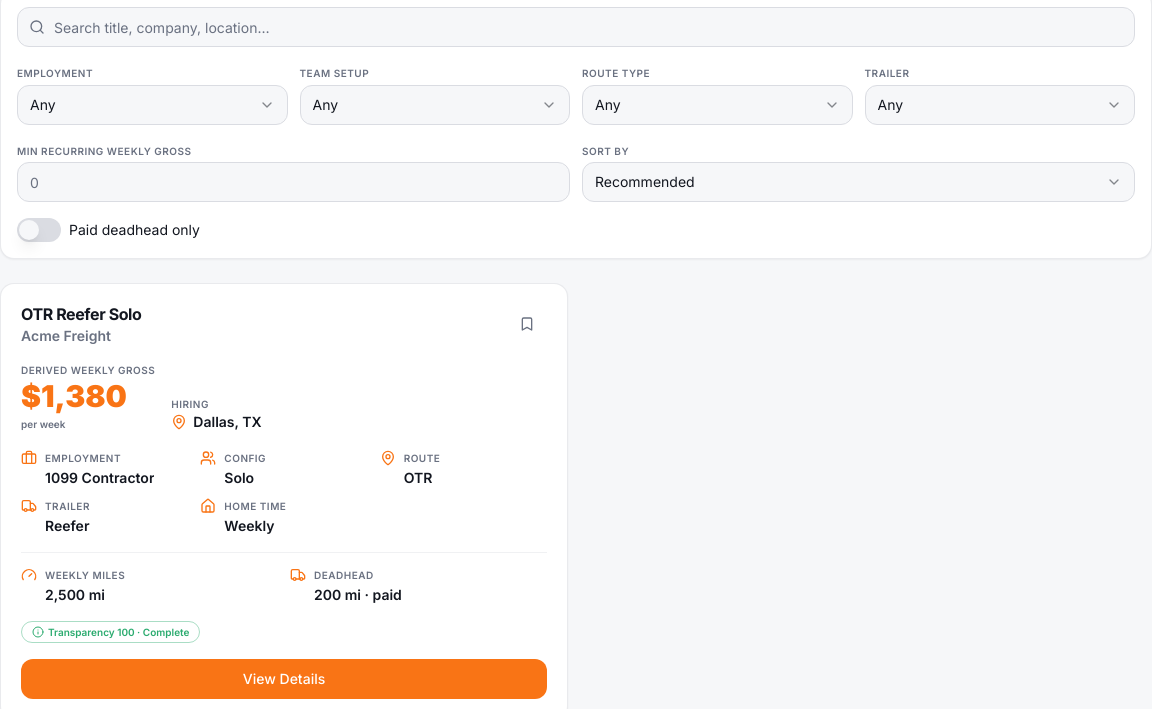
Test: Phase 1L-F2C · Detail Back navigation › 3. Back to Opportunities returns the card list for the same opportunity
Later steps or results of the test are not shown.
(page scrolled)
Step 1. Click the button "View Details" → [284, 679], box [21,659,547,699]
(page scrolled)
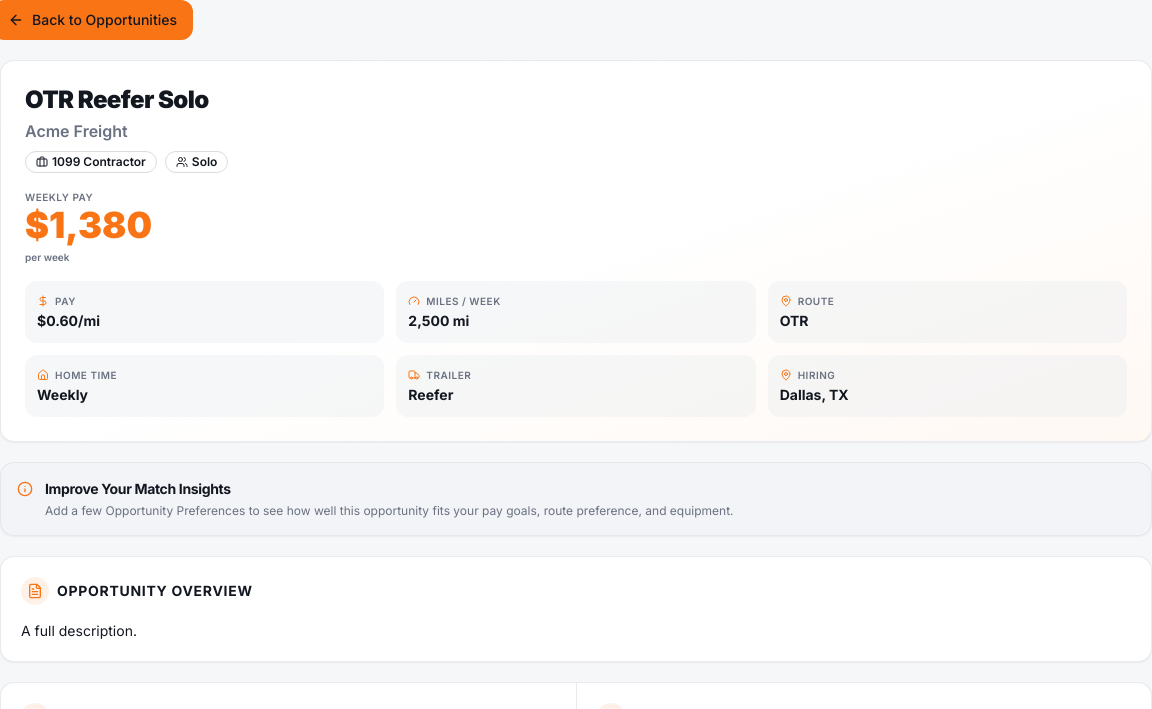
Result: the heading "OTR Reefer Solo" is shown at [25,85,209,115]
